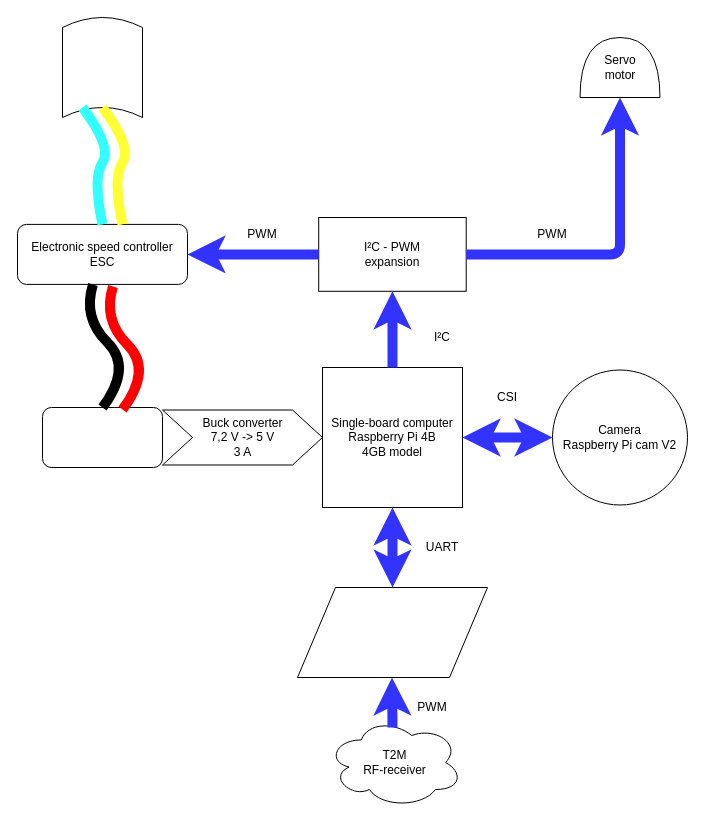
This 705x825 diagram has some shape labels left out. The centre of each missing label's shape, as x and y in pixels:
"3 channel PWM to UART" goes at [392,632].
"Battery 7,2 V 1800mAh" goes at [102,437].
"brushed DC motor" goes at [102,67].
